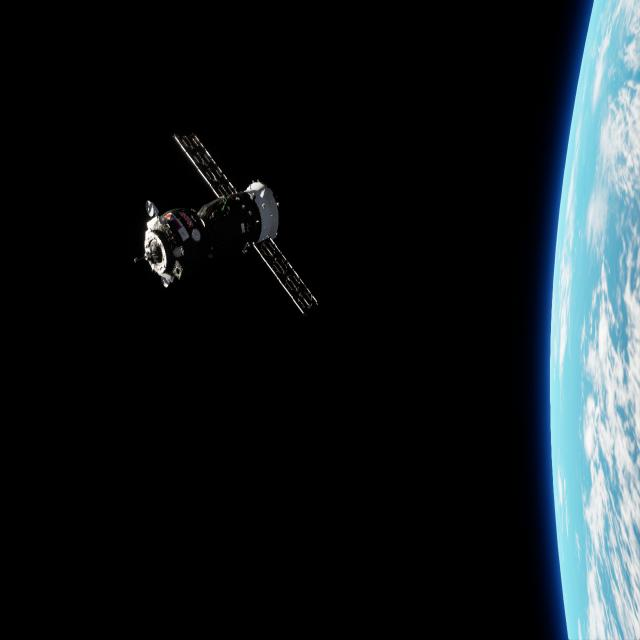Satellites revolving around earth: (138, 127, 320, 321)
